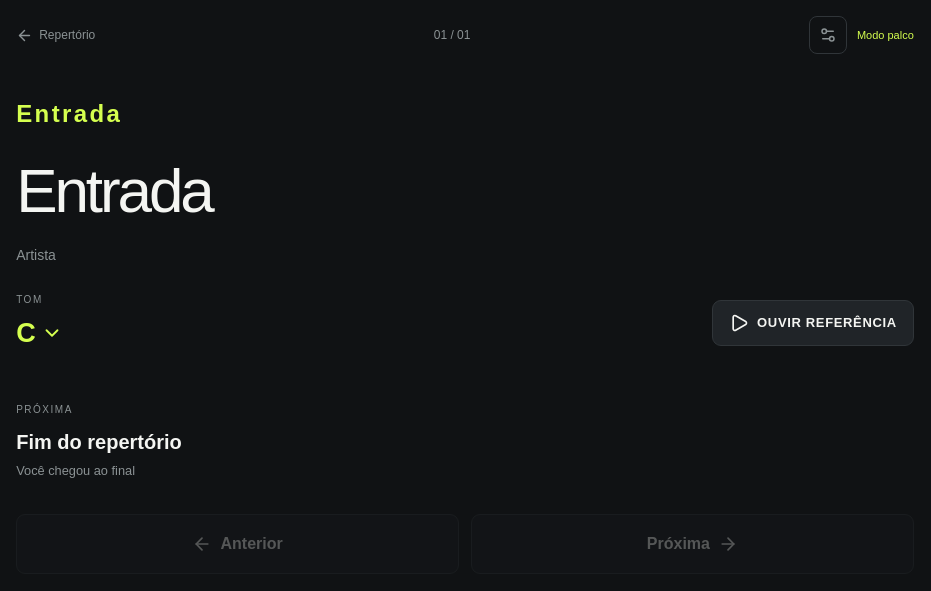
Test: StageView audio › starts a warm track synchronously without rendering a media element
Click the button "Ouvir referência".
click(813, 323)  # box x1=712 y1=300 x2=914 y2=346
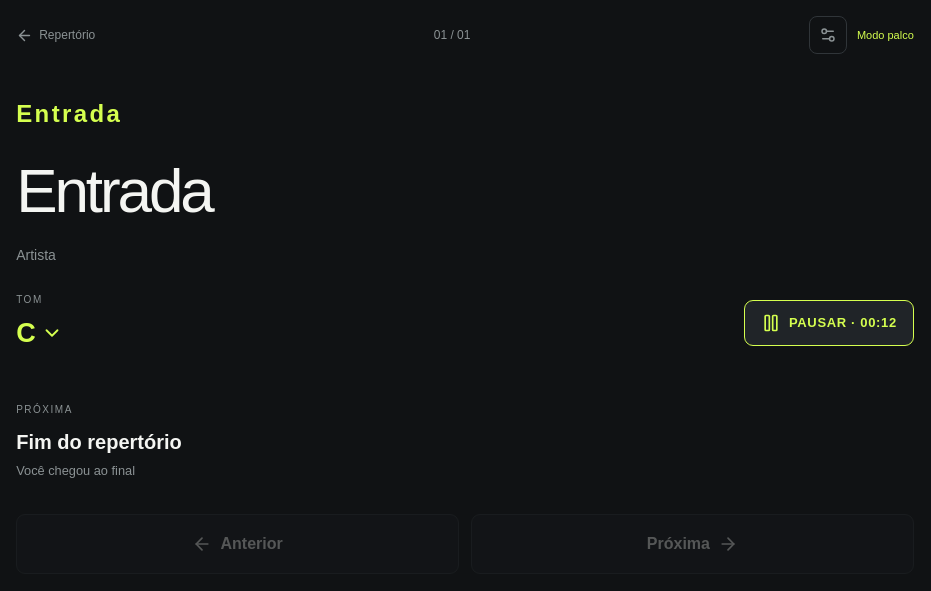
expect the button "Pausar · 00:12" is shown: met, box x1=744 y1=300 x2=914 y2=346
